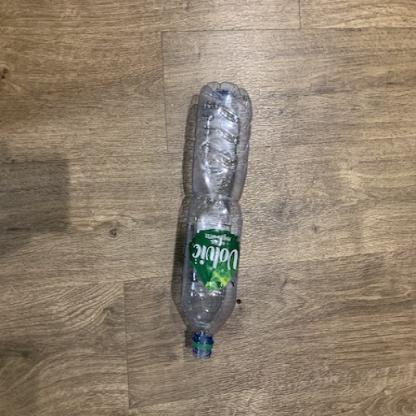trash: (171, 82, 257, 360)
